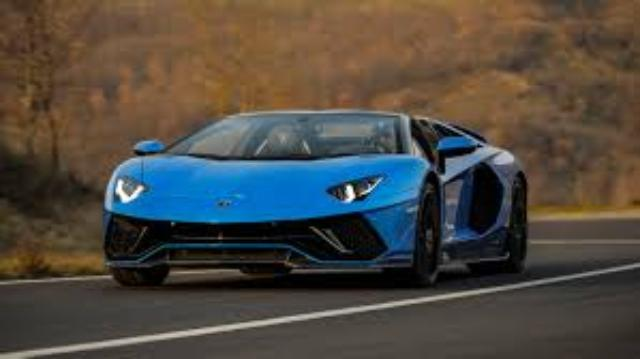lamborghini: (103, 110, 529, 286)
